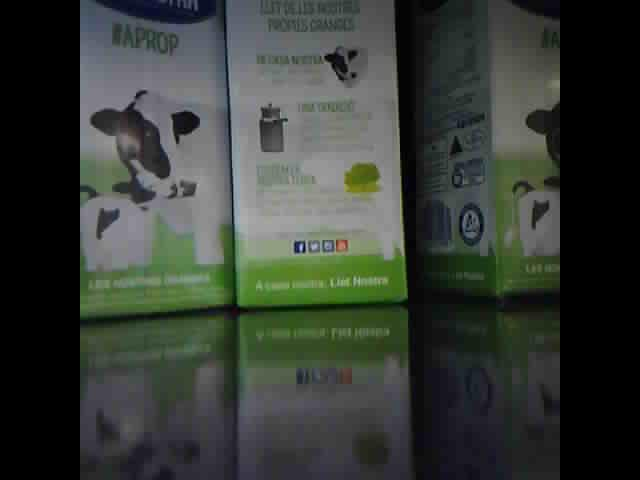leche: (229, 7, 403, 306), (79, 1, 226, 316), (417, 4, 559, 293)
